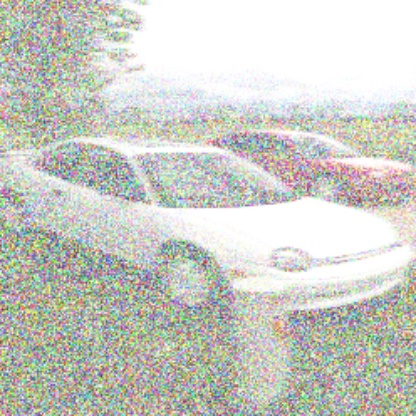Vehicle: (0, 134, 413, 314)
